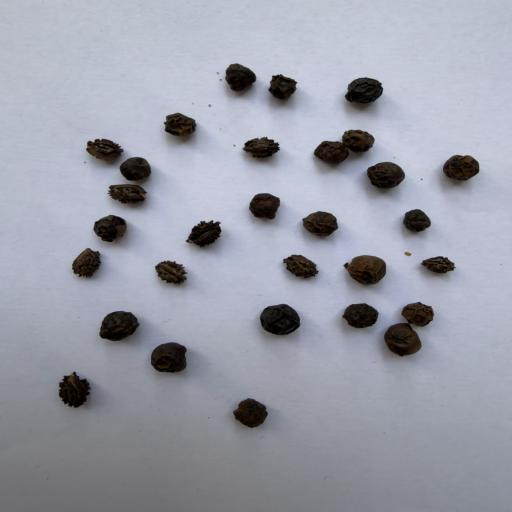Black_pepper: (338, 245, 392, 282), (248, 297, 297, 332), (214, 46, 254, 86), (223, 394, 272, 426), (82, 202, 128, 236), (141, 333, 181, 372), (339, 62, 384, 96), (85, 304, 132, 336), (443, 142, 488, 175), (293, 201, 339, 233), (358, 150, 405, 181), (382, 318, 421, 354), (148, 98, 194, 128), (240, 182, 278, 218), (331, 296, 379, 324), (334, 115, 378, 143), (106, 147, 154, 172), (260, 61, 296, 93), (401, 199, 435, 230), (313, 129, 343, 162), (399, 292, 434, 320)
papaya_seed: (42, 358, 92, 408), (144, 254, 200, 294), (181, 214, 230, 256), (232, 121, 278, 155), (96, 171, 146, 201), (272, 246, 320, 277), (58, 239, 98, 273), (414, 247, 461, 273), (79, 131, 122, 158)
